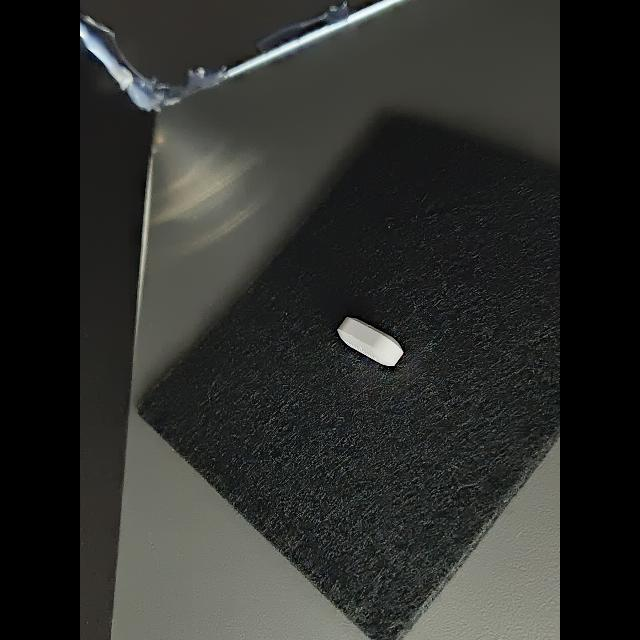Intact Pill: (337, 317, 404, 366)
